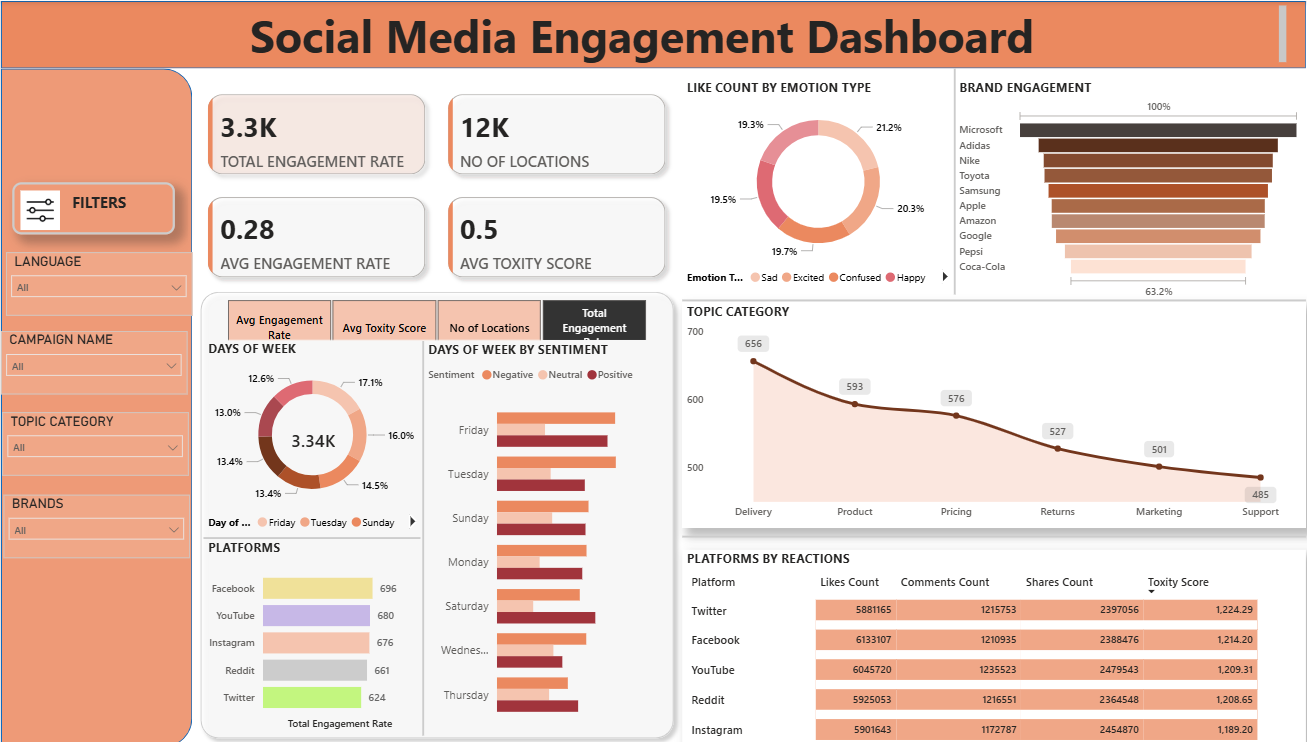

Layout of this report page (visuals, bound fields, positions):
{"tool":"powerbi","page":{"name":"Page 1","canvas":[1400,800],"ordinal":0},"visuals":[{"type":"shape","box":[0,72.4,205.1,727.9],"z":0},{"type":"shape","box":[0,0,1399.5,72.4],"z":1000},{"type":"textbox","box":[0,0,1383.4,72.4],"z":2000},{"type":"cardVisual","fields":{"Data":["Social Media Engagement.Total Engagement Rate","Social Media Engagement.No of Locations","Social Media Engagement.Avg Engagement Rate","Social Media Engagement.Avg Toxity Score"]},"box":[205.1,83.1,525.5,230.6],"z":4000},{"type":"shape","box":[205.6,303.2,525.3,496.8],"z":5000},{"type":"donutChart","title":"DAYS OF WEEK","fields":{"Y":["Social Media Engagement.Total Engagement Rate"],"Category":["Social Media Engagement.Day of Week"]},"box":[217.6,363.2,234.1,213.1],"z":6000},{"type":"slicer","fields":{"Values":["Parameter.Parameter"]},"box":[217.2,313.7,498.7,49.6],"z":7000},{"type":"cardVisual","fields":{"Data":["Social Media Engagement.Total Engagement Rate"]},"box":[289.5,441,91.2,49.6],"z":8000},{"type":"clusteredBarChart","title":"DAYS OF WEEK BY SENTIMENT","fields":{"Y":["Social Media Engagement.Total Engagement Rate"],"Category":["Social Media Engagement.Day of Week"],"Series":["Social Media Engagement.Sentiment Label"]},"box":[453.1,364.6,262.7,422.3],"z":9000},{"type":"shape","box":[436.8,364.7,31.5,423.2],"z":10000},{"type":"barChart","title":"PLATFORMS","fields":{"Y":["Social Media Engagement.Total Engagement Rate"],"Category":["Social Media Engagement.Platform"]},"box":[217.6,576.3,234.1,210.1],"z":11000},{"type":"shape","box":[217.6,543.3,232.6,66],"z":12000},{"type":"lineChart","title":"TOPIC CATEGORY","fields":{"Y":["Social Media Engagement.Total Engagement Rate"],"Category":["Social Media Engagement.Topic Category"]},"box":[730.6,323.1,668.9,241.3],"z":13000},{"type":"textbox","box":[12.1,194.4,174.3,56.3],"z":14000},{"type":"donutChart","title":"LIKE COUNT BY EMOTION TYPE","fields":{"Y":["Sum(Social Media Engagement.Likes Count)"],"Category":["Social Media Engagement.Emotion Type"]},"box":[730.6,83.1,292.2,230.6],"z":15000},{"type":"funnel","title":"BRAND ENGAGEMENT","fields":{"Category":["Social Media Engagement.Brand Name"],"Y":["Sum(Social Media Engagement.Engagement Rate)"]},"box":[1022.8,83.1,376.7,239.9],"z":16000},{"type":"shape","box":[730.6,304.3,668.9,33.5],"z":17000},{"type":"shape","box":[996,72.4,53.6,242.6],"z":18000},{"type":"pivotTable","title":"PLATFORMS BY REACTIONS","fields":{"Rows":["Social Media Engagement.Platform"],"Values":["Sum(Social Media Engagement.Likes Count)","Sum(Social Media Engagement.Comments Count)","Sum(Social Media Engagement.Shares Count)","Sum(Social Media Engagement.Toxity Score)"]},"box":[730.6,588.5,668.9,211.8],"z":19000},{"type":"shape","box":[730.6,557.6,668.9,33.5],"z":20000},{"type":"slicer","fields":{"Values":["Social Media Engagement.Language"]},"box":[5.4,269.4,199.7,68.4],"z":21000},{"type":"slicer","fields":{"Values":["Social Media Engagement.Campaign Name"]},"box":[0,353.9,199.7,68.4],"z":22000},{"type":"slicer","fields":{"Values":["Social Media Engagement.Topic Category"]},"box":[1.3,441,199.7,68.4],"z":23000},{"type":"slicer","fields":{"Values":["Social Media Engagement.Brand Name"]},"box":[2.7,529.5,199.7,68.4],"z":24000},{"type":"image","box":[12.1,198.4,60.3,52.3],"z":25000}]}

Visuals, with their boxes in screenshot pixels (x1, y1, x2, y2), scaled from the page's 1400x800 canvas onto the 1307x742 screenshot:
shape: x1=0, y1=67, x2=191, y2=741
shape: x1=0, y1=0, x2=1306, y2=67
textbox: x1=0, y1=0, x2=1292, y2=67
cardVisual - Social Media Engagement.Total Engagement Rate x Social Media Engagement.No of Locations: x1=191, y1=77, x2=682, y2=291
shape: x1=192, y1=281, x2=682, y2=741
"DAYS OF WEEK" donutChart: x1=203, y1=337, x2=422, y2=535
slicer - Parameter.Parameter: x1=203, y1=291, x2=668, y2=337
cardVisual - Social Media Engagement.Total Engagement Rate: x1=270, y1=409, x2=355, y2=455
"DAYS OF WEEK BY SENTIMENT" clusteredBarChart: x1=423, y1=338, x2=668, y2=730
shape: x1=408, y1=338, x2=437, y2=731
"PLATFORMS" barChart: x1=203, y1=535, x2=422, y2=729
shape: x1=203, y1=504, x2=420, y2=565
"TOPIC CATEGORY" lineChart: x1=682, y1=300, x2=1306, y2=523
textbox: x1=11, y1=180, x2=174, y2=233
"LIKE COUNT BY EMOTION TYPE" donutChart: x1=682, y1=77, x2=955, y2=291
"BRAND ENGAGEMENT" funnel: x1=955, y1=77, x2=1306, y2=300
shape: x1=682, y1=282, x2=1306, y2=313
shape: x1=930, y1=67, x2=980, y2=292
"PLATFORMS BY REACTIONS" pivotTable: x1=682, y1=546, x2=1306, y2=741
shape: x1=682, y1=517, x2=1306, y2=548
slicer - Social Media Engagement.Language: x1=5, y1=250, x2=191, y2=313
slicer - Social Media Engagement.Campaign Name: x1=0, y1=328, x2=186, y2=392
slicer - Social Media Engagement.Topic Category: x1=1, y1=409, x2=188, y2=472
slicer - Social Media Engagement.Brand Name: x1=3, y1=491, x2=189, y2=555
image: x1=11, y1=184, x2=68, y2=233
